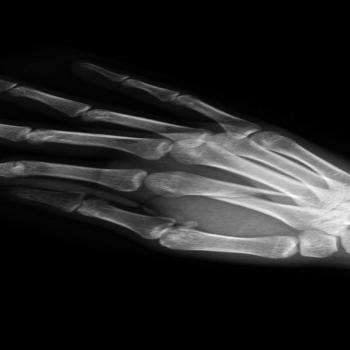Fracture: (190, 183, 270, 206)
